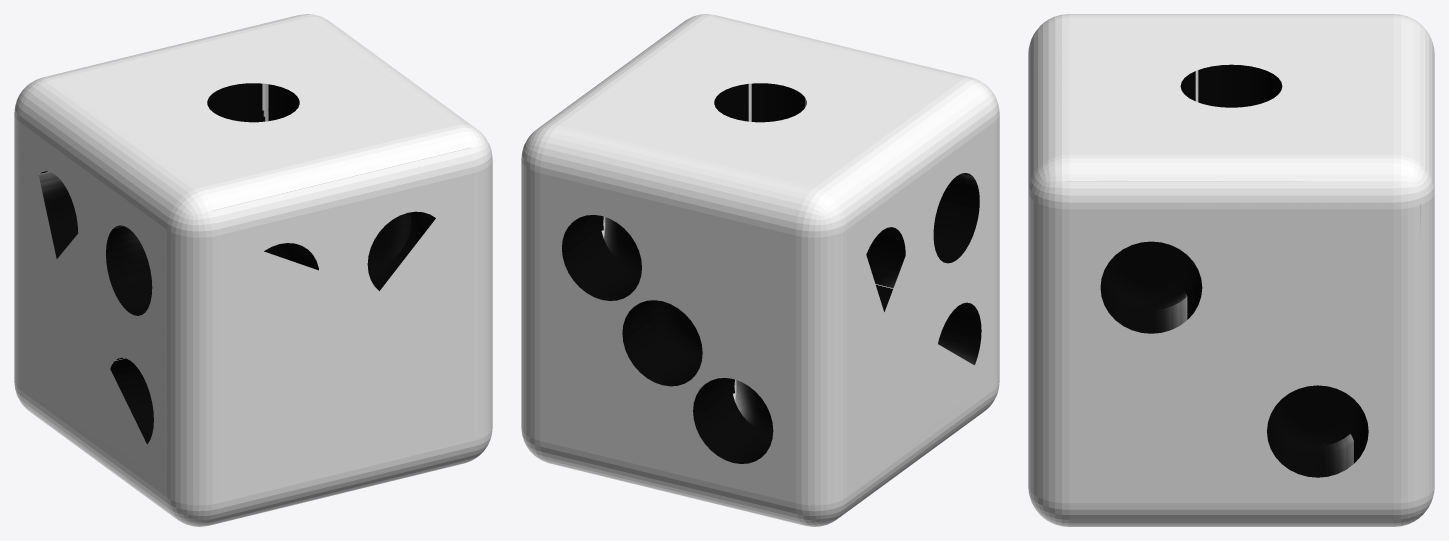
File: FLUP.fbx
The picture shows the model from 3 angles, left to right: view 1: azimuth 30°, elevation 25°; view 2: azimuth 150°, elevation 25°; view 3: azimuth 270°, elevation 25°; orthographic projection. The views are drawn at different scales.
Parts seen in each view (by area): view 1: Cube; view 2: Cube; view 3: Cube.
Boxes of the visible parts, bbox=[...] form: Cube: bbox=[14, 14, 492, 526]; Cube: bbox=[521, 14, 999, 526]; Cube: bbox=[1028, 14, 1434, 526].
Bounding box in the file's own units: 200 × 200 × 200.
Materials: 1 (1 with a texture image).
